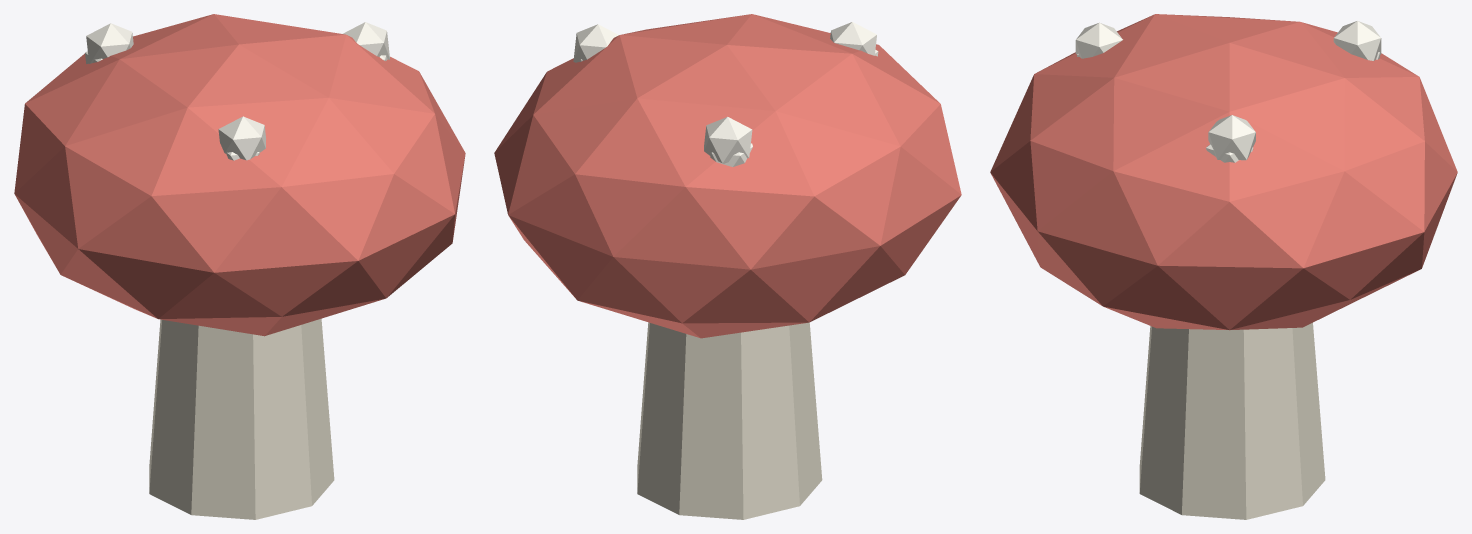
Rendered from mushroom_big.glb.
The picture shows the model from 3 angles, left to right: view 1: azimuth 30°, elevation 25°; view 2: azimuth 150°, elevation 25°; view 3: azimuth 270°, elevation 25°; orthographic projection.
Parts seen in each view (by area): view 1: mushroom_big; view 2: mushroom_big; view 3: mushroom_big.
Part boxes in pixels (x1=…): mushroom_big: x1=14, y1=14, x2=465, y2=519; mushroom_big: x1=494, y1=14, x2=961, y2=519; mushroom_big: x1=990, y1=14, x2=1457, y2=519.
Bounding box in the file's own units: 2.62 × 2.77 × 2.69.
